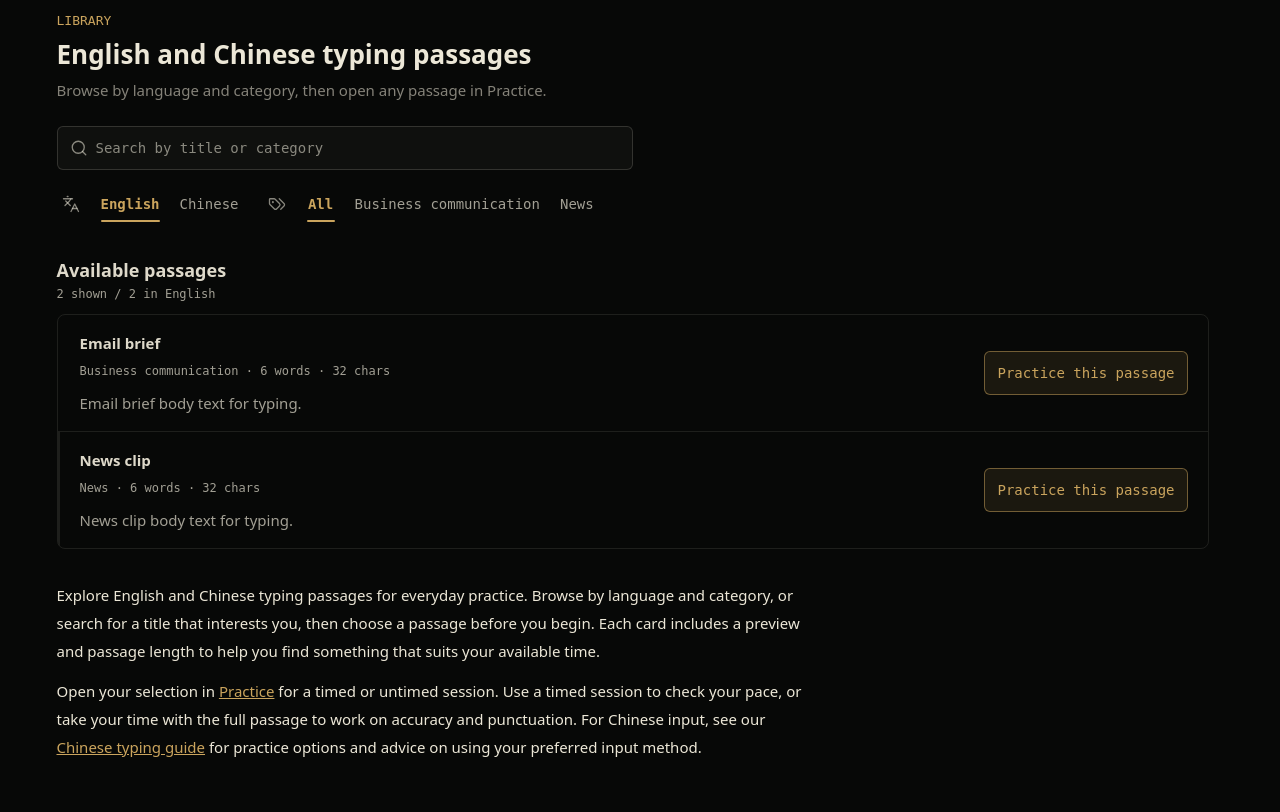
PassagesPage › filters the Passage Library by explicit language and honors Practice query language
The image size is (1280, 812).
Expected: the heading "Email brief" is shown, [80,331,160,355]
Expected: the element named "Language" is shown, [56,182,246,226]
Click the button with aria-label "Chinese language" at (209, 204), box [172,182,246,226]
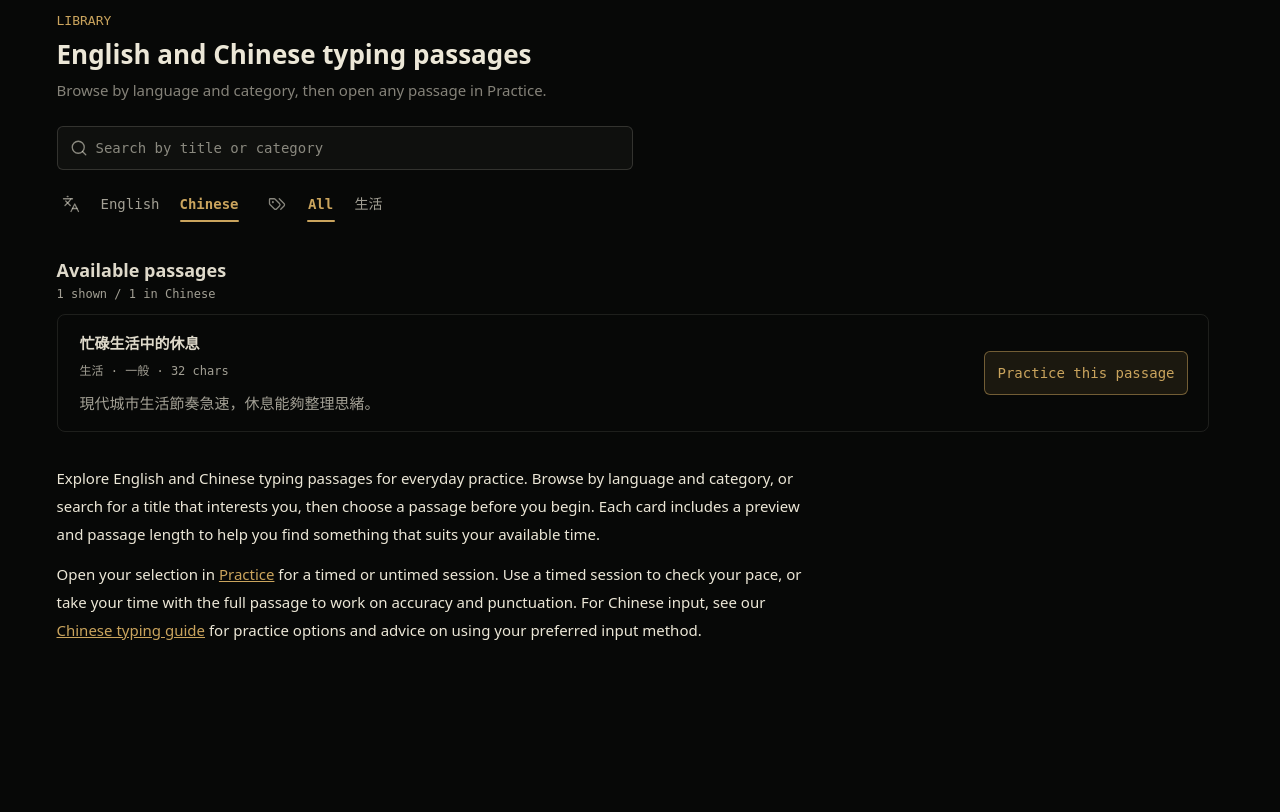
Result: the heading "忙碌生活中的休息" is shown at [80,331,200,355]
Result: the heading "Email brief" is gone
Result: the text "32 chars" no longer shows "words"
